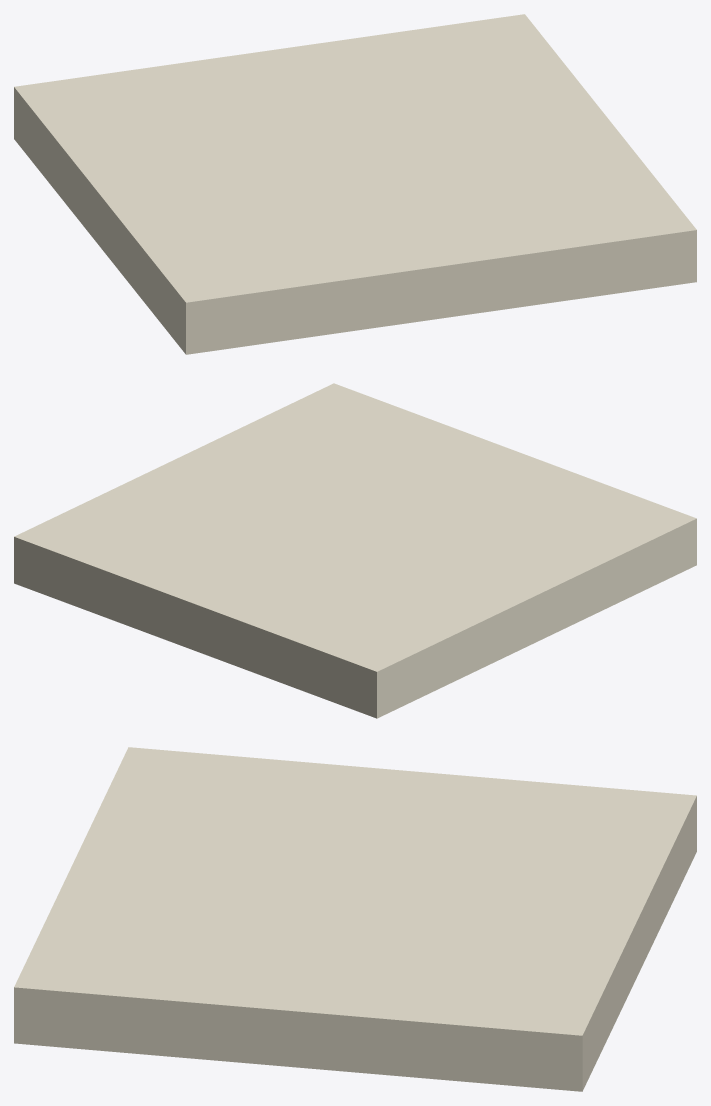
Rendered from camino_11_lev1.glb.
The picture shows the model from 3 angles, top to bottom: view 1: azimuth 30°, elevation 25°; view 2: azimuth 150°, elevation 25°; view 3: azimuth 270°, elevation 25°; orthographic projection. The views are drawn at different scales.
Parts seen in each view (by area): view 1: camino_11_lev1; view 2: camino_11_lev1; view 3: camino_11_lev1.
Boxes of the visible parts, box(x1,y1,x2,y2) form: camino_11_lev1: box(14, 14, 696, 354); camino_11_lev1: box(14, 383, 696, 718); camino_11_lev1: box(14, 747, 696, 1091).
Size of the model in its own units: 1.77 by 0.16 by 1.77.
